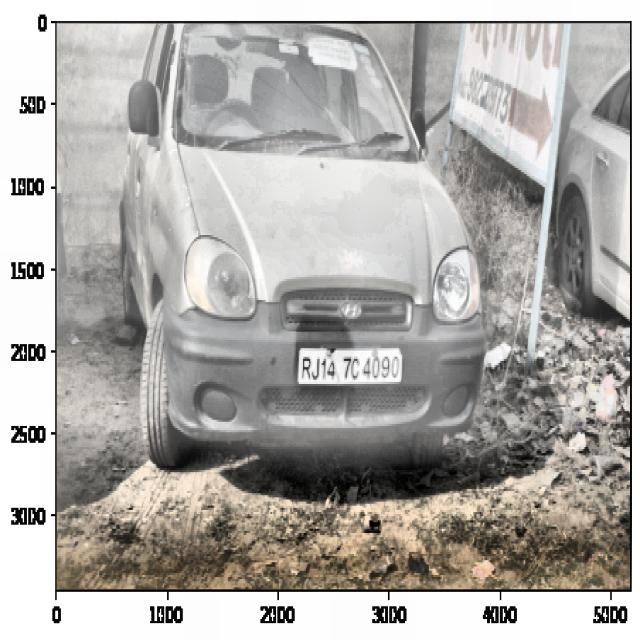license_plate: (298, 349, 403, 389)
